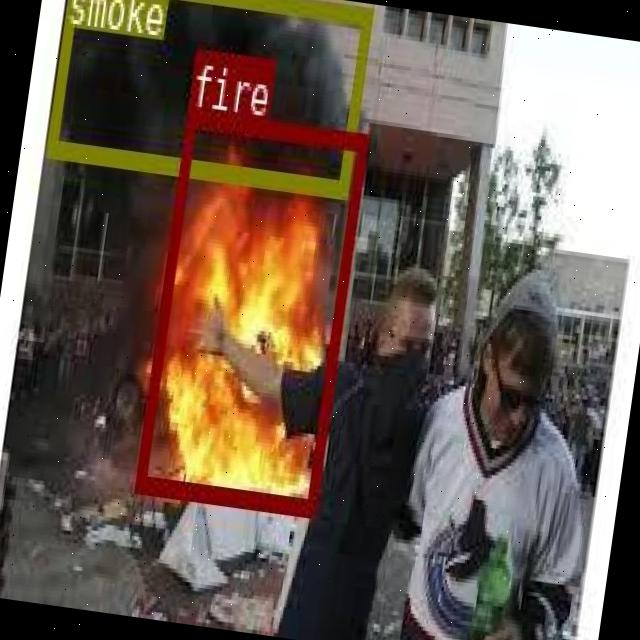fire: (133, 105, 367, 512)
smoke: (45, 0, 370, 194)
